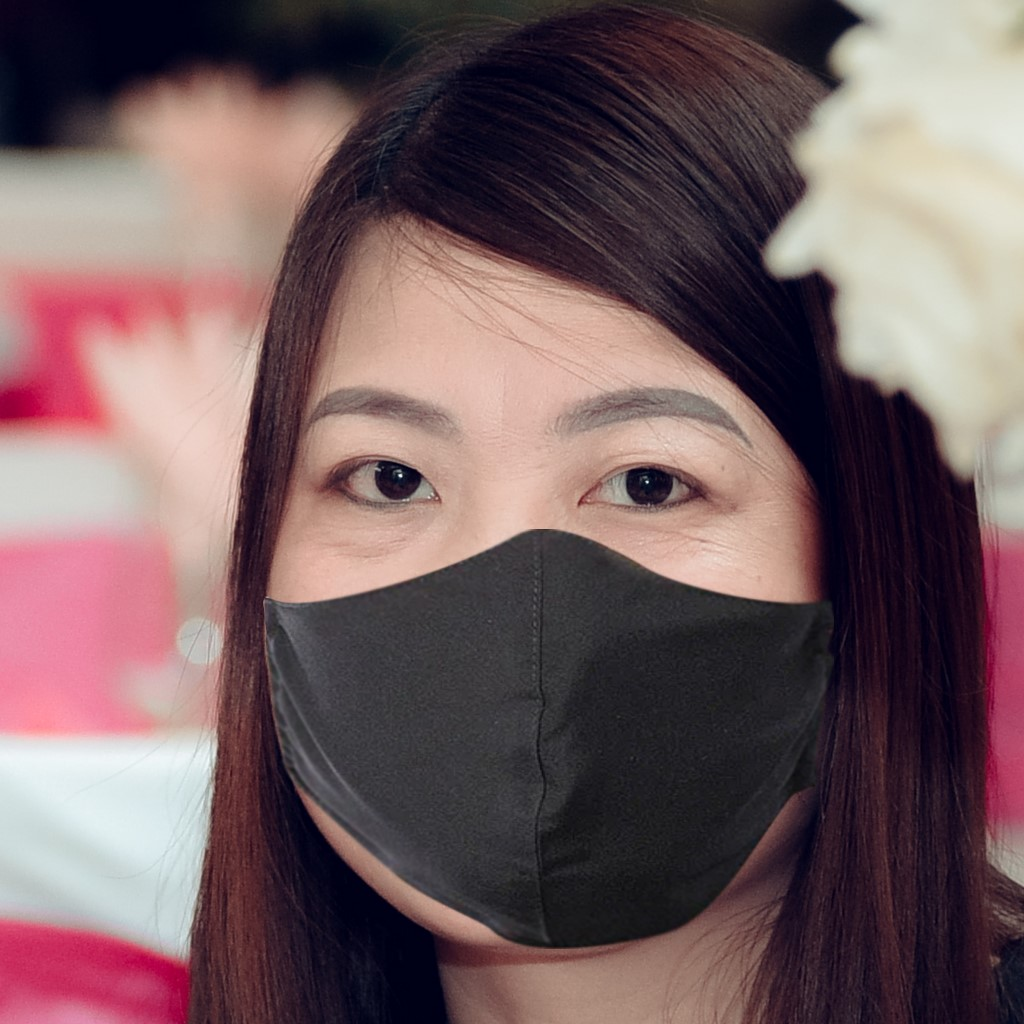con_mascara: (247, 201, 832, 962)
